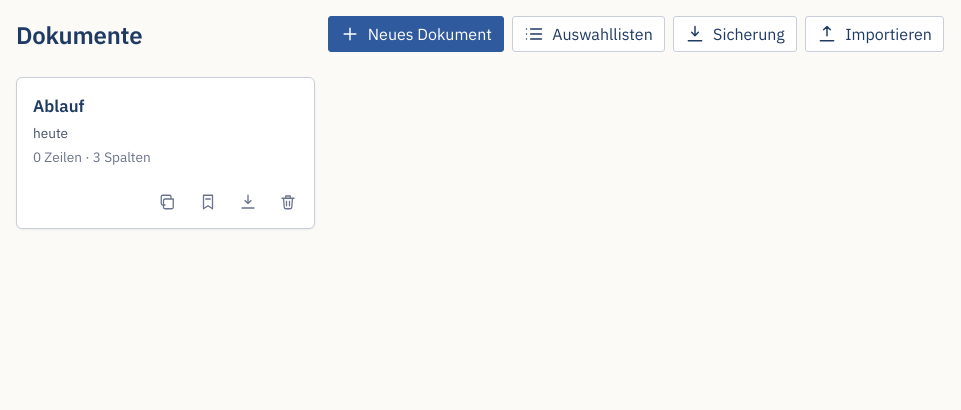
Scenario: start time › remembers which of two entries on the same time was picked
Click the text "Ablauf". click: click(59, 106)
box: [33,94,84,119]
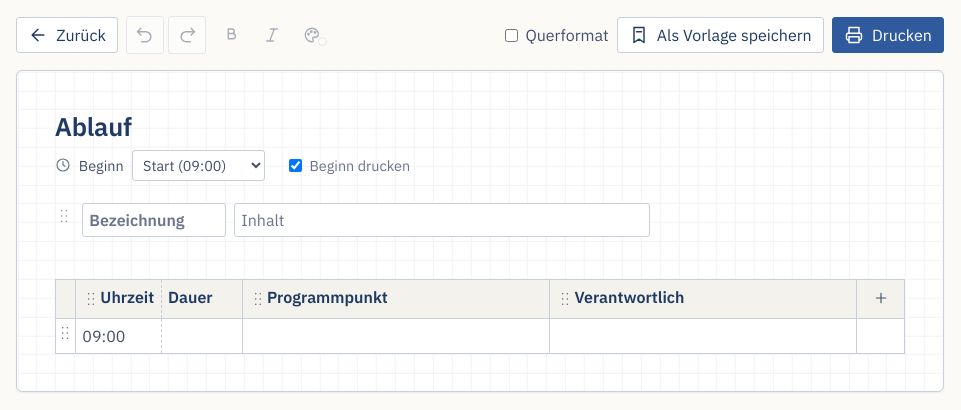
expect the dropdown labelled "Beginn" shows "Start (09:00)": met, box [132,150,265,181]
